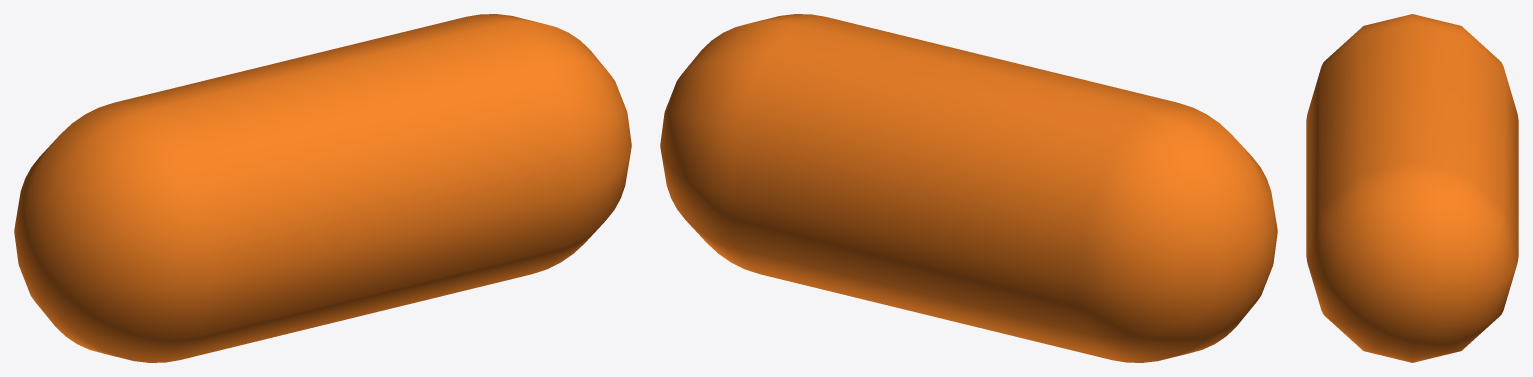
3 views of the same model, side by side, from view 1: azimuth 30°, elevation 25°; view 2: azimuth 150°, elevation 25°; view 3: azimuth 270°, elevation 25° (orthographic). The views are drawn at different scales.
Visible parts, largest first — view 1: gripper_frame; view 2: gripper_frame; view 3: gripper_frame.
Boxes of the visible parts, x1,y1,x2,y2 form: gripper_frame: [14, 14, 631, 362]; gripper_frame: [660, 14, 1277, 362]; gripper_frame: [1306, 14, 1518, 362].
Size of the model in its own units: 0.0193 by 0.00763 by 0.00763.
